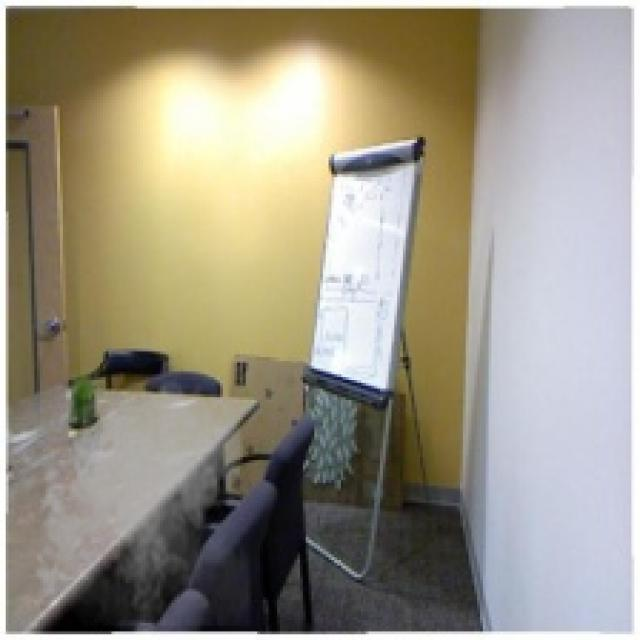Smoke: (28, 371, 252, 626)
